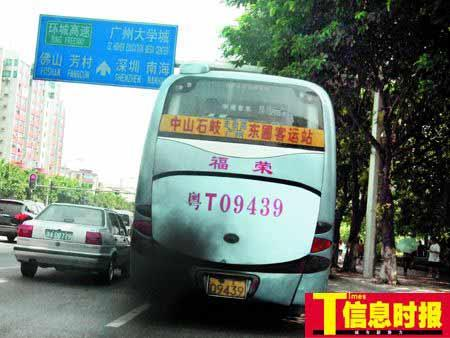smoke: (106, 228, 229, 338)
